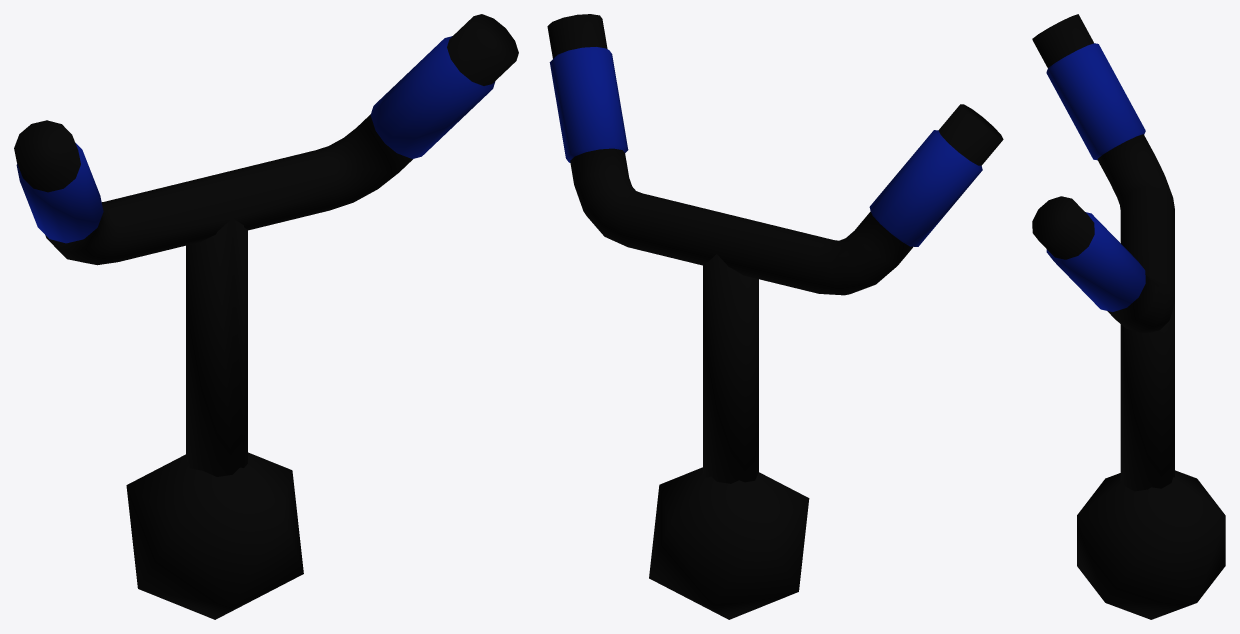
File: Cockpit_Steering.glb
3 renders of one model, left to right at view 1: azimuth 30°, elevation 25°; view 2: azimuth 150°, elevation 25°; view 3: azimuth 270°, elevation 25°, orthographic. The views are drawn at different scales.
Parts seen in each view (by area): view 1: Icosphere; view 2: Icosphere; view 3: Icosphere.
Part boxes in pixels (x1=…): Icosphere: x1=14, y1=14, x2=518, y2=619; Icosphere: x1=547, y1=14, x2=1003, y2=619; Icosphere: x1=1032, y1=14, x2=1225, y2=619.
Size of the model in its own units: 0.2097 by 0.2352 by 0.0804.
